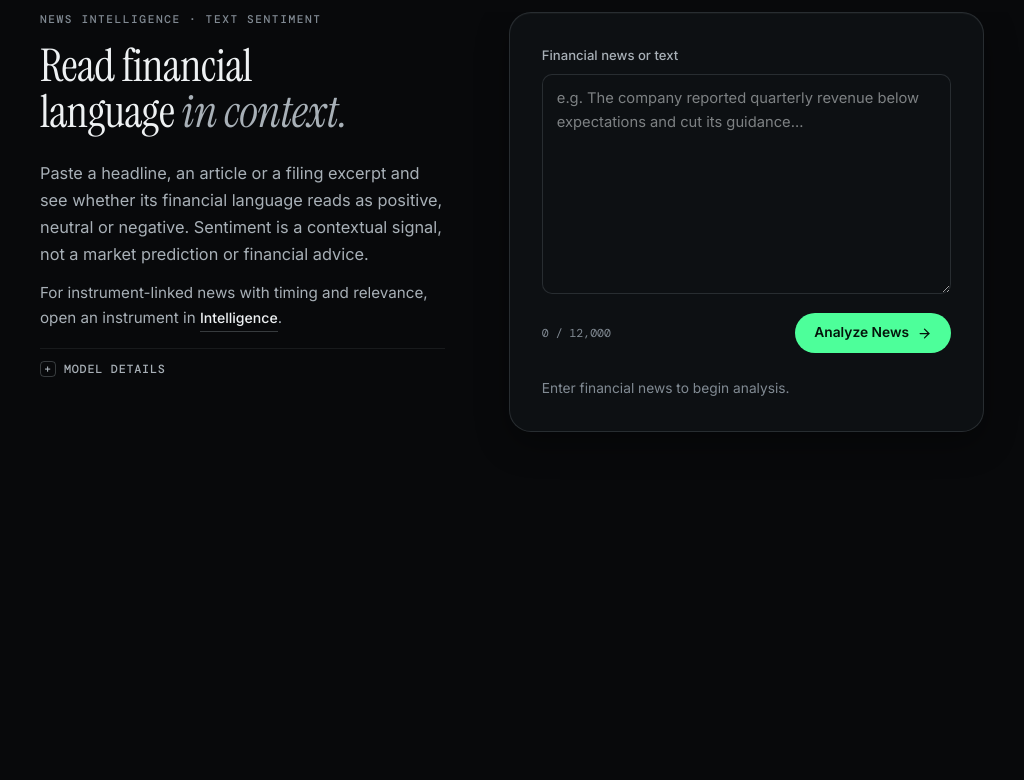
Test: NewsAnalysis › renders the FinBERT result
Replace the text in the text box labelled "Financial news or text" with "Profit fell." at (746, 184), box [542,74,951,294]
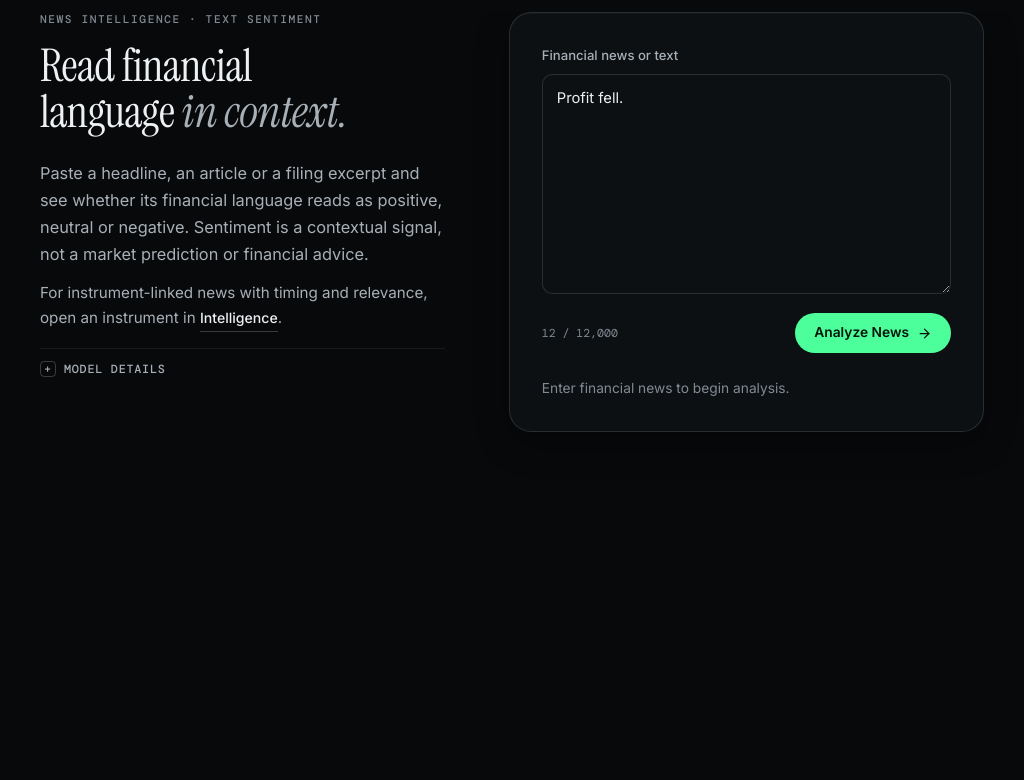
Click the button "Analyze News" at (873, 333), box [795,313,951,353]
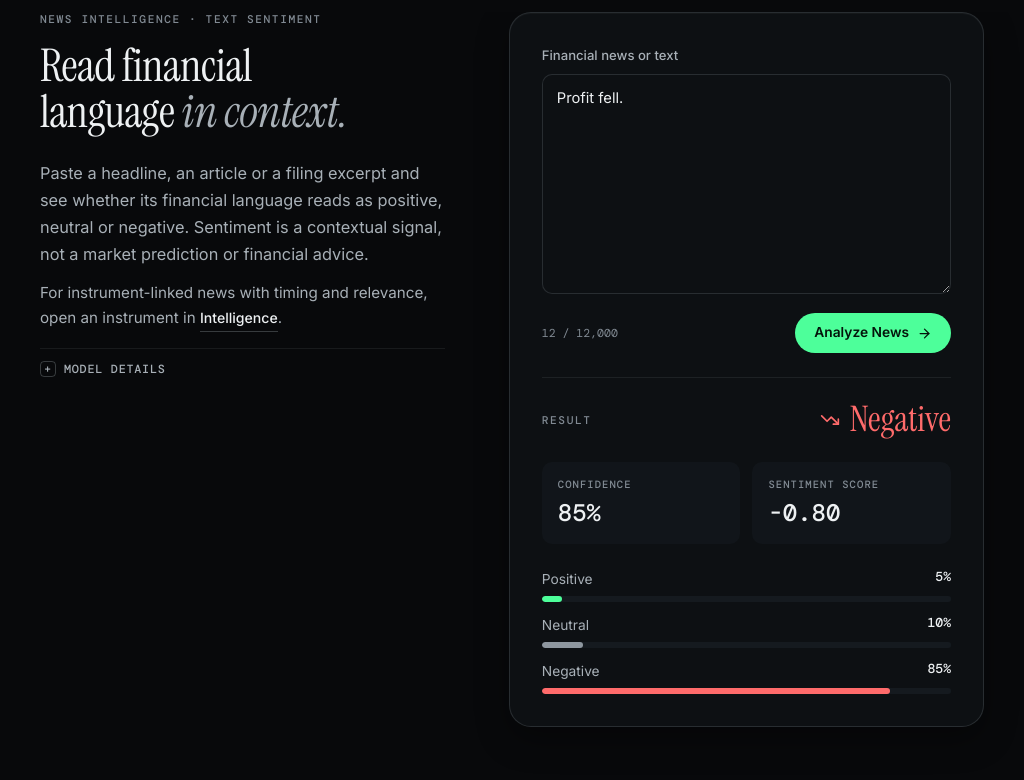
Now the text "85%" below "Confidence" is shown, box [558,496,601,528]
Now the text "negative" is shown, box [820,402,951,438]
